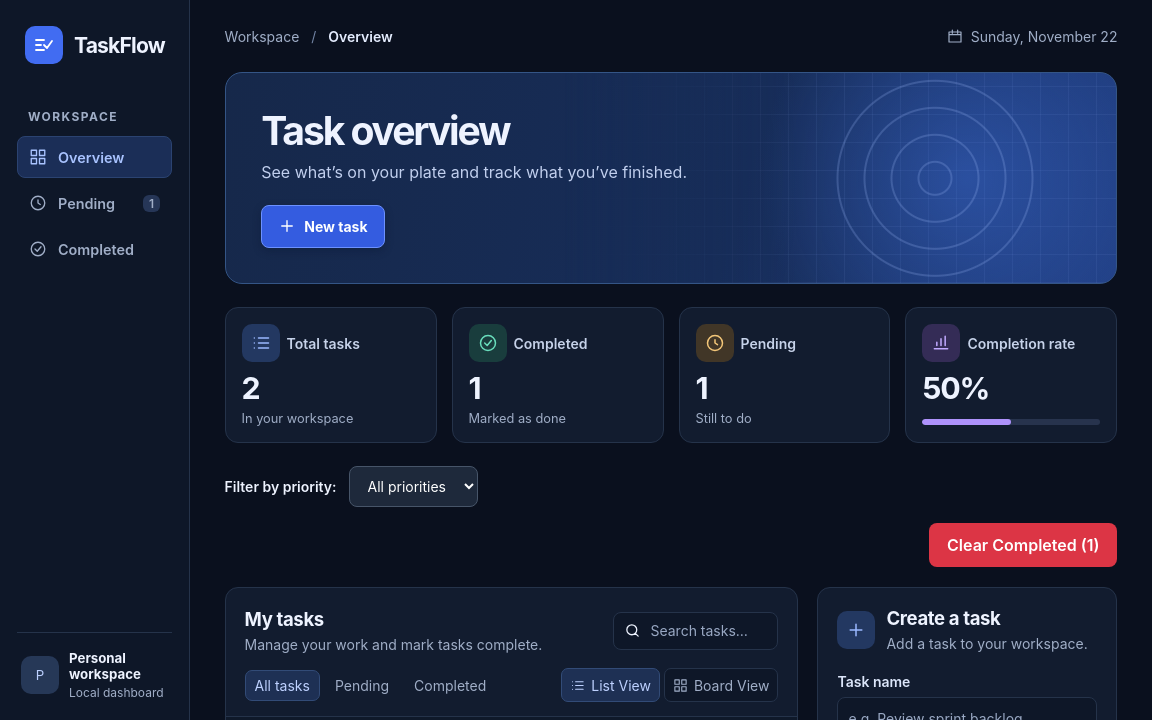
Test: TaskFlow › clears completed tasks and updates dashboard statistics
Check: the element "Total tasks" shows "2", box 242,370 -> 259,406
Check: the element "Completed" shows "1", box 468,370 -> 480,406
Click the button "Clear Completed (1)". click: point(1023, 545)
box: 929,523 -> 1117,567
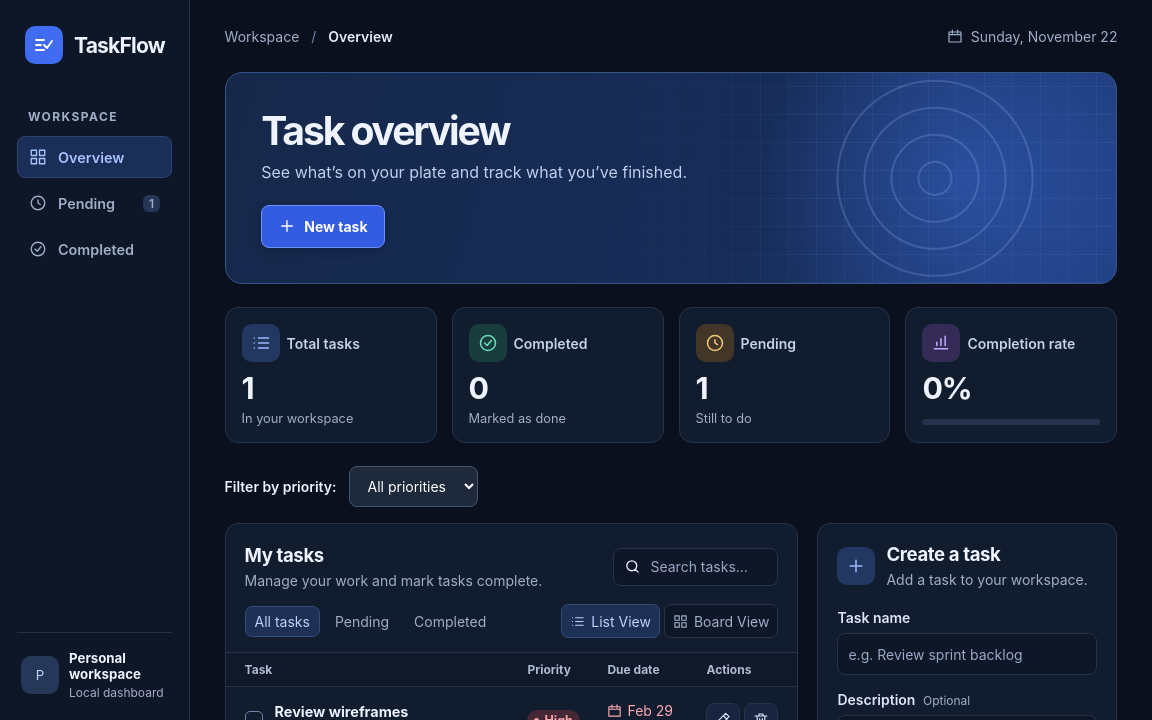
Check: the element "Total tasks" shows "1", box 242,370 -> 253,406
Check: the element "Completed" shows "0", box 468,370 -> 488,406
Check: the button "Clear Completed" is gone
